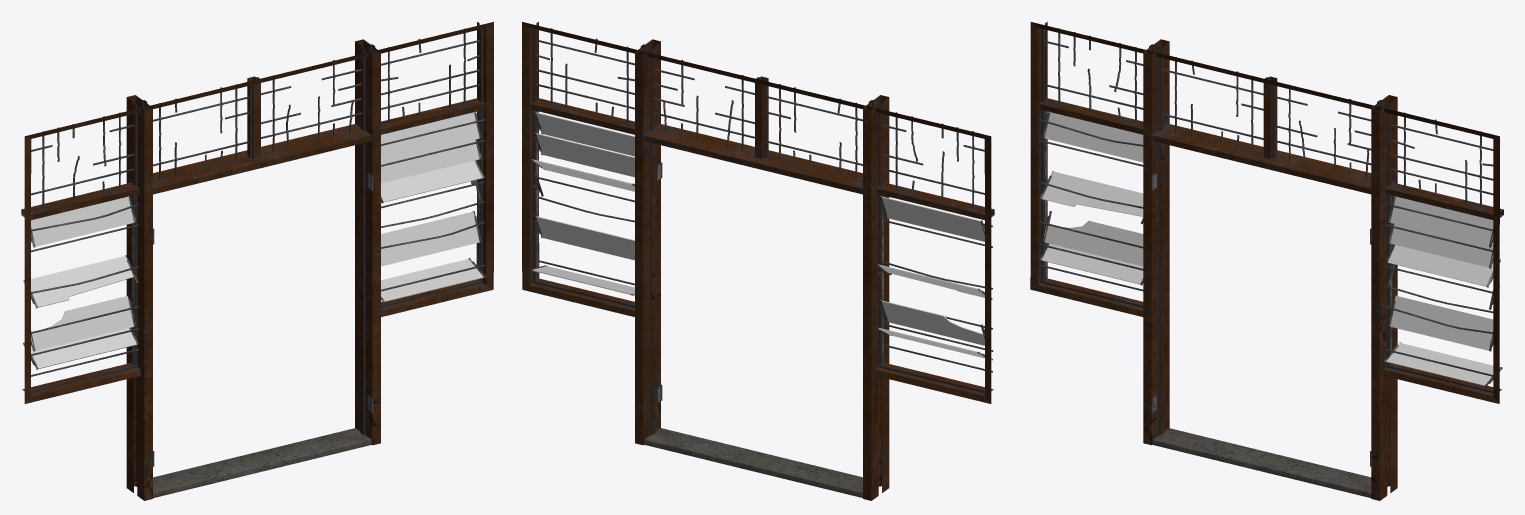
Rendered from 333_doorframe_1.FBX.
3 views of the same model, side by side, from view 1: azimuth 30°, elevation 25°; view 2: azimuth 150°, elevation 25°; view 3: azimuth 330°, elevation 25° (orthographic).
Parts seen in each view (by area): view 1: 333_doorframe_1; view 2: 333_doorframe_1; view 3: 333_doorframe_1.
Part boxes in pixels (x1,y1,x2,y2): 333_doorframe_1: (21,22,493,500); 333_doorframe_1: (522,22,994,500); 333_doorframe_1: (1030,21,1503,500).
Size of the model in its own units: 351 by 280 by 23.46.
